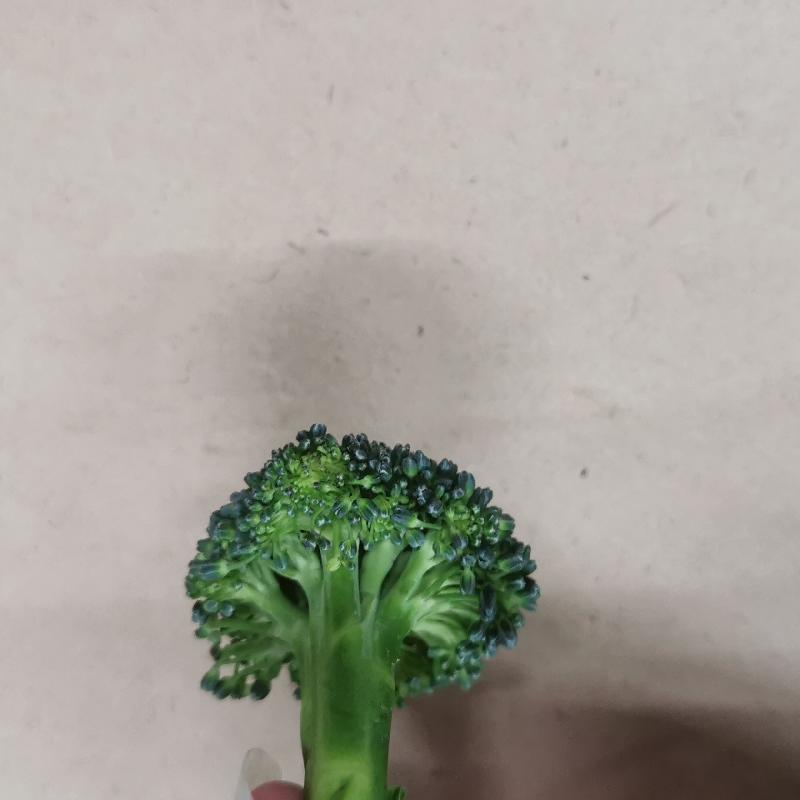broccoli: (184, 421, 540, 800)
